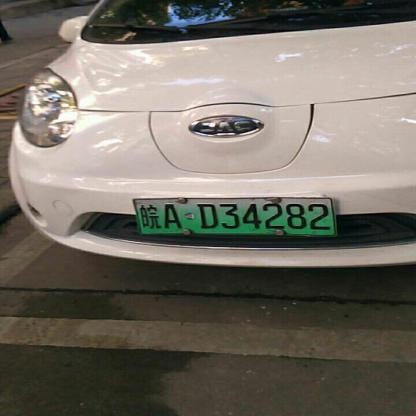lp: (133, 197, 336, 234)
